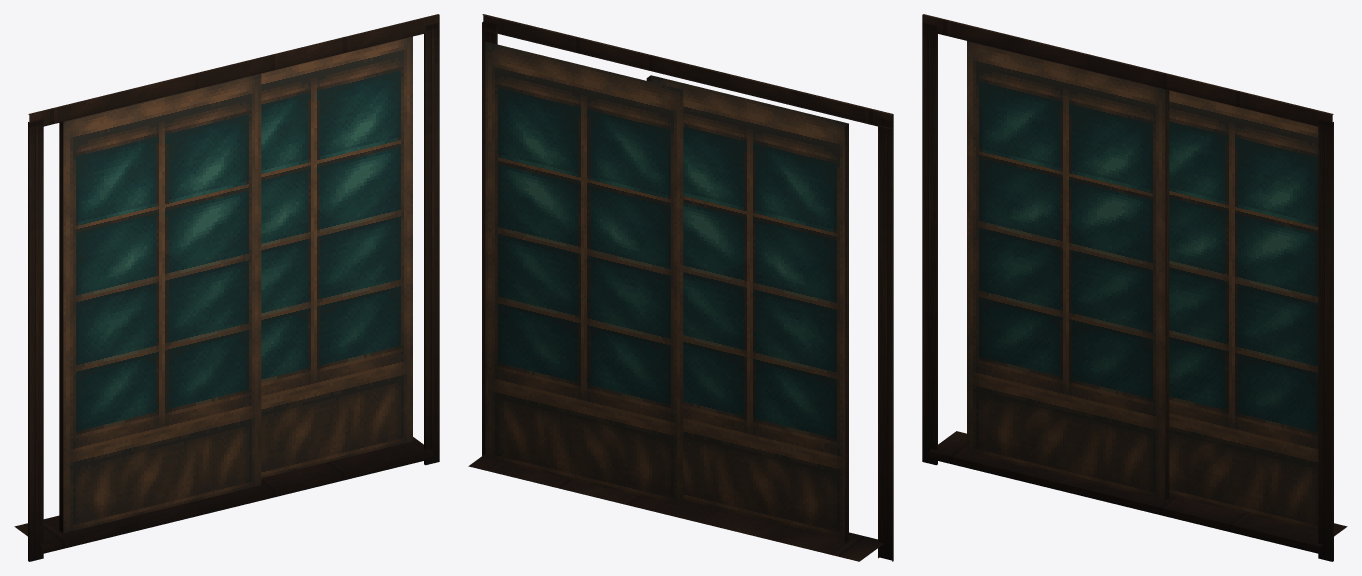
Rendered from prop_sash-16-17-4.glb.
3 views of the same model, side by side, from view 1: azimuth 30°, elevation 25°; view 2: azimuth 150°, elevation 25°; view 3: azimuth 330°, elevation 25° (orthographic).
Visible parts, largest first — view 1: prop_sash-16-17-4; view 2: prop_sash-16-17-4; view 3: prop_sash-16-17-4.
Part boxes in pixels (x1,y1,x2,y2): prop_sash-16-17-4: (14,14,439,561); prop_sash-16-17-4: (468,14,893,561); prop_sash-16-17-4: (922,14,1347,561).
Bounding box in the file's own units: 1.72 × 1.79 × 0.2.
Materials: 2 (2 with a texture image).
